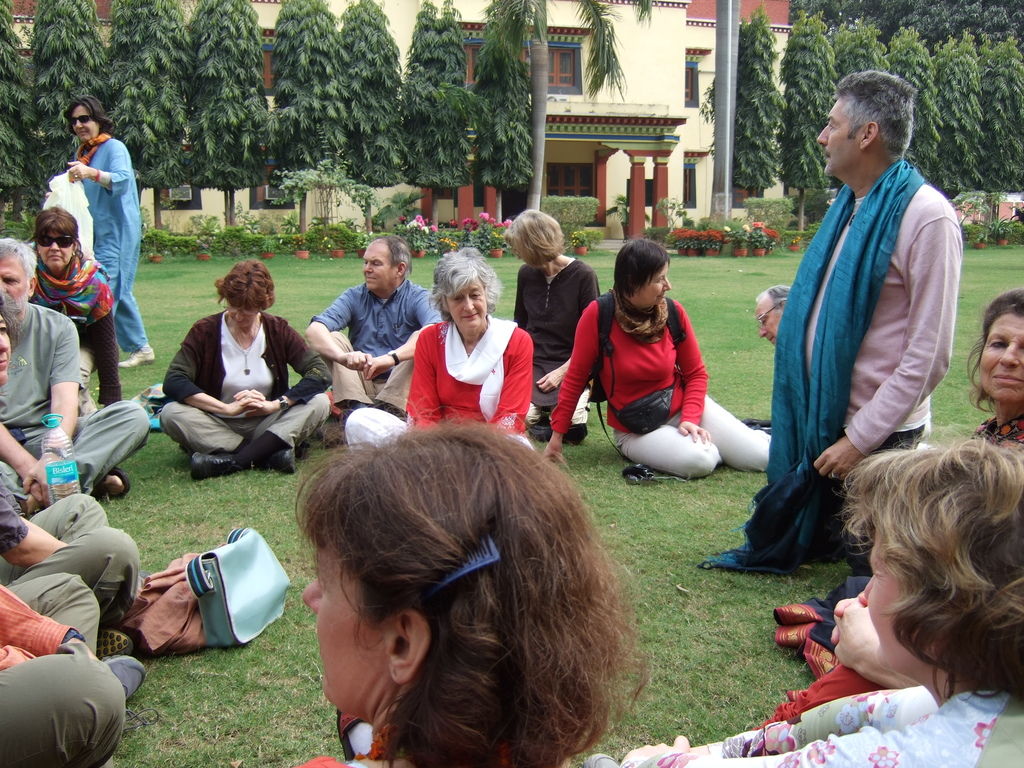Tree: (471, 0, 650, 214), (893, 22, 1023, 247), (186, 0, 273, 260), (268, 0, 347, 251), (110, 0, 191, 240), (693, 1, 784, 208), (24, 0, 112, 203), (403, 0, 466, 245), (344, 0, 407, 238), (776, 0, 837, 243), (467, 0, 528, 190), (0, 0, 37, 228), (888, 0, 1023, 53), (827, 0, 889, 88)
